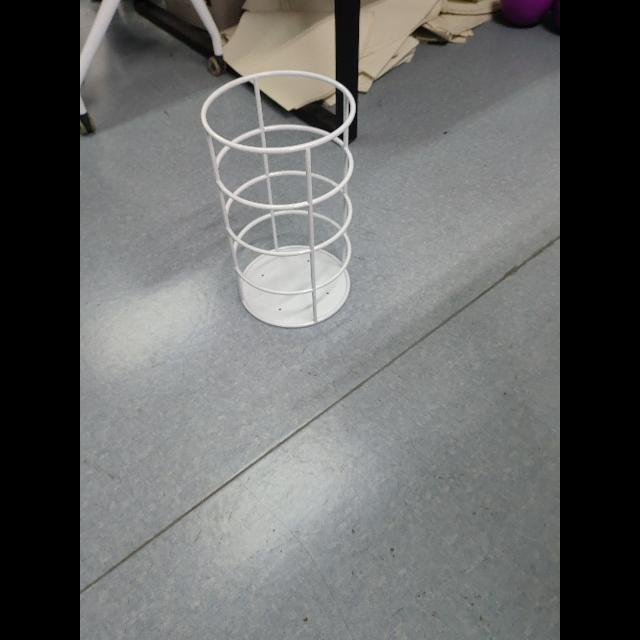S: (200, 68, 364, 332)
